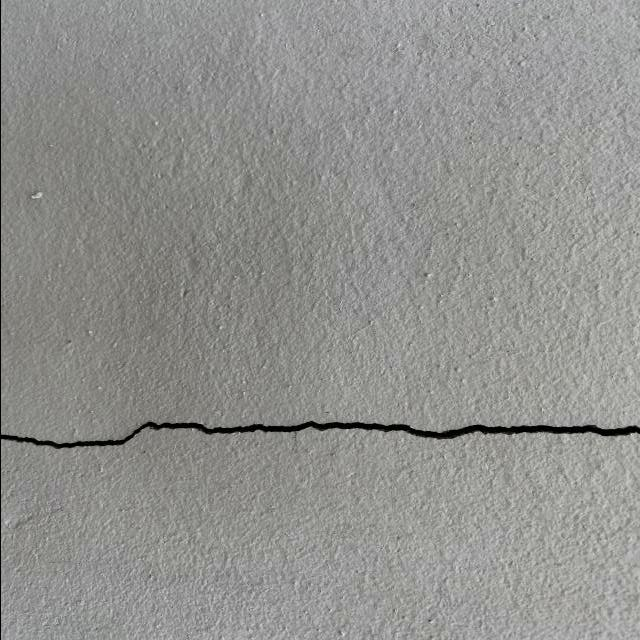SurfaceCrack: (0, 365, 639, 501)
